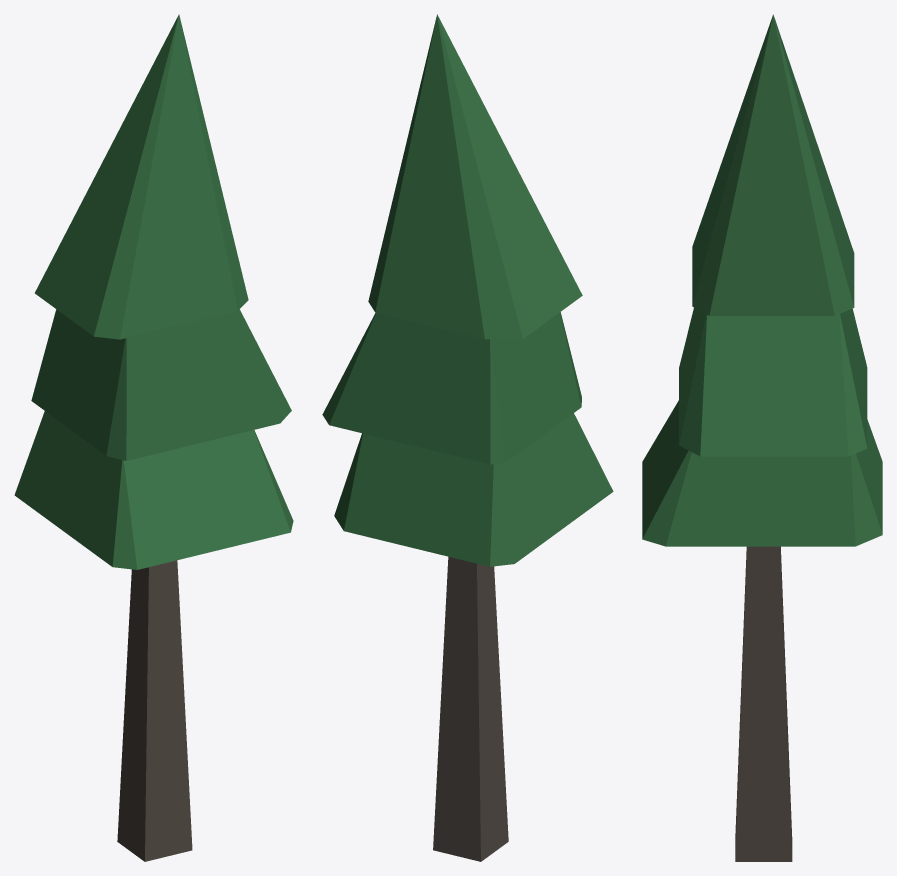
Rendered from pine.glb.
3 views of the same model, side by side, from view 1: azimuth 30°, elevation 25°; view 2: azimuth 150°, elevation 25°; view 3: azimuth 270°, elevation 25° (orthographic). The views are drawn at different scales.
Parts seen in each view (by area): view 1: pine; view 2: pine; view 3: pine.
Boxes of the visible parts, box(x1,y1,x2,y2) form: pine: box(14, 14, 293, 861); pine: box(322, 14, 613, 861); pine: box(642, 14, 882, 861).
Bounding box in the file's own units: 0.3863 × 1.53 × 0.392.
